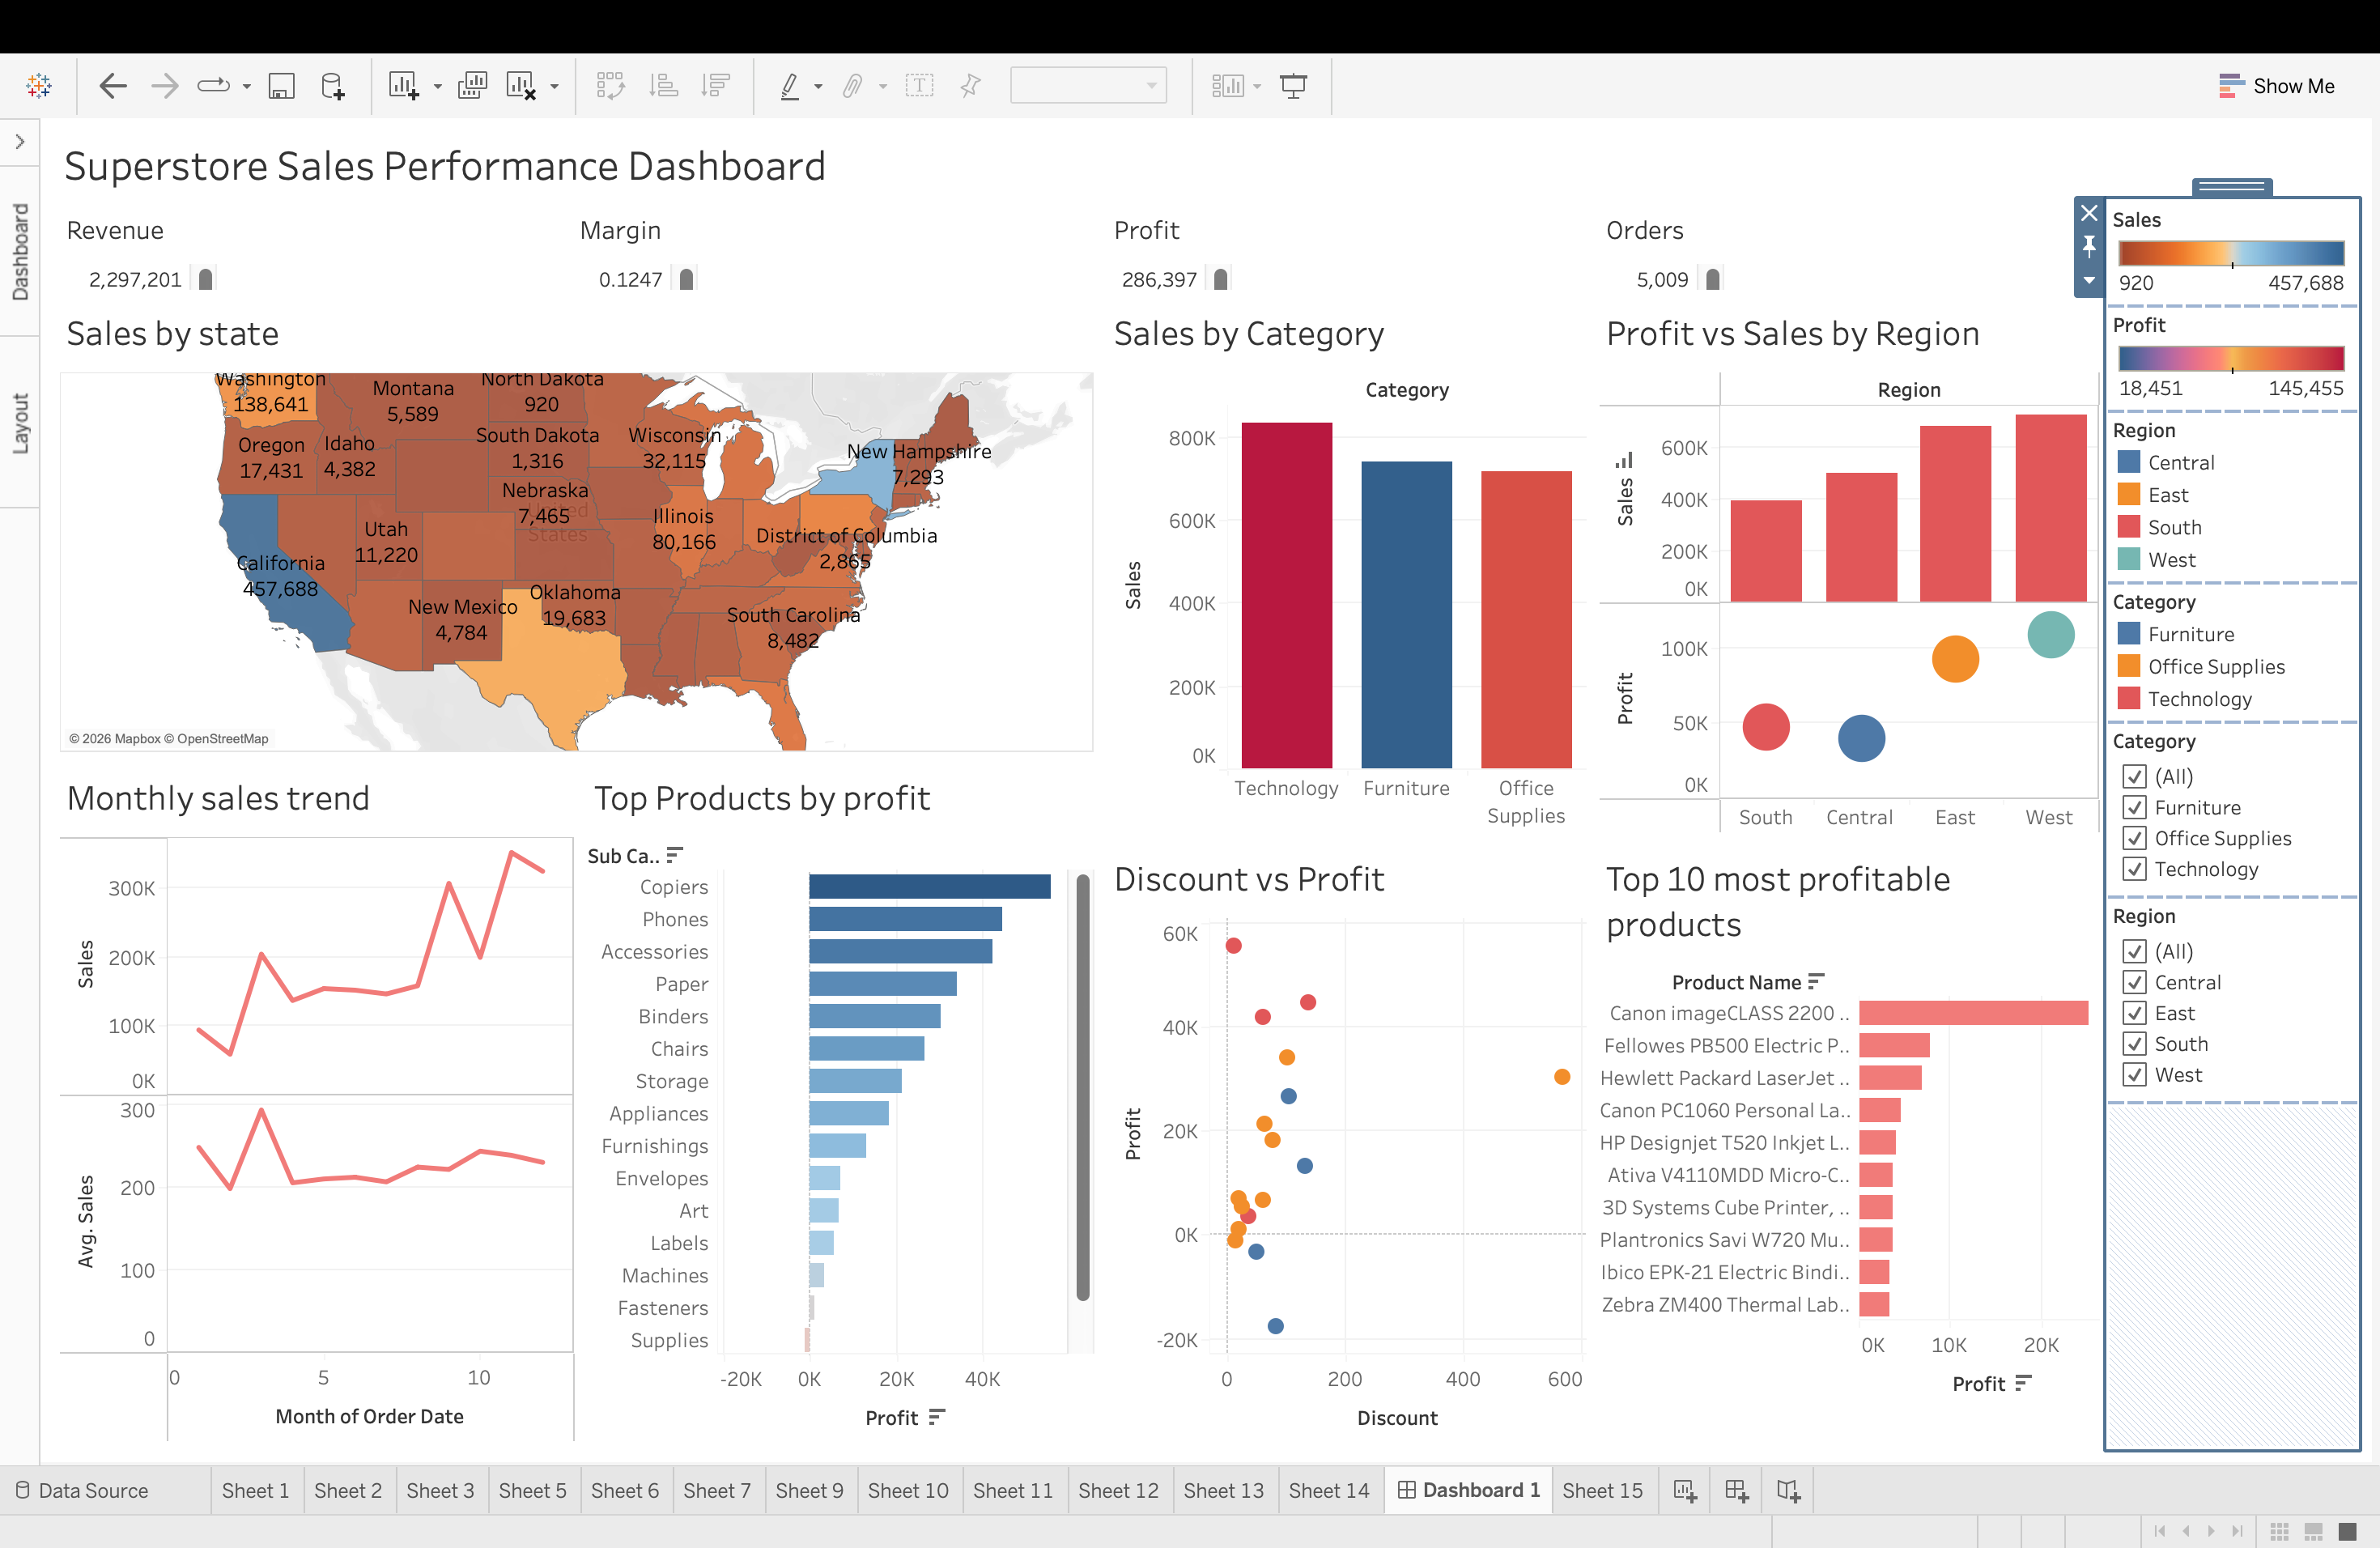

This screenshot's page, from the dashboard's own definition file:
{"tool":"tableau","page":{"name":"Dashboard 1","canvas":[1440,830],"ordinal":0},"visuals":[{"type":"title","box":[8,8,1424,42]},{"type":"worksheet","title":"Sheet 12","mark":"Text","box":[8,50,316.9,60.5]},{"type":"worksheet","title":"Sheet 15","mark":"Automatic","box":[324.9,50,329.8,60.5]},{"type":"worksheet","title":"Sheet 13","mark":"Text","box":[654.7,50,304.2,60.5]},{"type":"worksheet","title":"Sheet 14","mark":"Text","box":[958.9,50,317.1,60.5]},{"type":"legend","title":"Sheet 7","param":"[federated.0seep7z1s7p4qn14bod2g1qje3ka].[sum:sales:qk]","box":[1276,50,156,65]},{"type":"worksheet","title":"Sheet 7","mark":"Multipolygon","box":[8,110.5,646.7,286.1]},{"type":"worksheet","title":"Sheet 1","mark":"Automatic","rows":["sales"],"cols":["category"],"box":[654.7,110.5,304.2,336.1]},{"type":"worksheet","title":"Sheet 11","mark":"Automatic","rows":["sales","profit"],"cols":["region"],"box":[958.9,110.5,317.1,336.1]},{"type":"legend","title":"Sheet 1","param":"[federated.0seep7z1s7p4qn14bod2g1qje3ka].[sum:profit:qk]","box":[1276,115,156,65]},{"type":"legend","title":"Sheet 11","param":"[federated.0seep7z1s7p4qn14bod2g1qje3ka].[none:region:nk]","box":[1276,180,156,106]},{"type":"legend","title":"Sheet 6","param":"[federated.0seep7z1s7p4qn14bod2g1qje3ka].[none:category:nk]","box":[1276,286,156,86]},{"type":"filter","title":"Sheet 1","param":"[federated.0seep7z1s7p4qn14bod2g1qje3ka].[none:category:nk]","box":[1276,372,156,108]},{"type":"worksheet","title":"Sheet 3","mark":"Automatic","rows":["sales","sales"],"cols":["order_date"],"box":[8,396.6,326,425.4]},{"type":"worksheet","title":"Sheet 9","mark":"Automatic","rows":["sub_category"],"cols":["profit"],"box":[334,396.6,320.7,425.4]},{"type":"worksheet","title":"Sheet 6","mark":"Circle","rows":["profit"],"cols":["discount"],"box":[654.7,446.5,304.2,375.5]},{"type":"worksheet","title":"Sheet 5","mark":"Automatic","rows":["product_name"],"cols":["profit"],"box":[958.9,446.5,317.1,375.5]},{"type":"filter","title":"Sheet 11","param":"[federated.0seep7z1s7p4qn14bod2g1qje3ka].[none:region:nk]","box":[1276,480,156,127]}]}

Visuals, with their boxes on the page's 1440x830 design canvas (x1, y1, x2, y2). These are canvas units, not pixel positions in the 2380x1548 screenshot, which may show the page scaled, cropped or inside an application window:
title: (x1=8, y1=8, x2=1432, y2=50)
"Sheet 12" worksheet (Text marks): (x1=8, y1=50, x2=325, y2=110)
"Sheet 15" worksheet: (x1=325, y1=50, x2=655, y2=110)
"Sheet 13" worksheet (Text marks): (x1=655, y1=50, x2=959, y2=110)
"Sheet 14" worksheet (Text marks): (x1=959, y1=50, x2=1276, y2=110)
"Sheet 7" legend: (x1=1276, y1=50, x2=1432, y2=115)
"Sheet 7" worksheet (Multipolygon marks): (x1=8, y1=110, x2=655, y2=397)
"Sheet 1" worksheet: (x1=655, y1=110, x2=959, y2=447)
"Sheet 11" worksheet: (x1=959, y1=110, x2=1276, y2=447)
"Sheet 1" legend: (x1=1276, y1=115, x2=1432, y2=180)
"Sheet 11" legend: (x1=1276, y1=180, x2=1432, y2=286)
"Sheet 6" legend: (x1=1276, y1=286, x2=1432, y2=372)
"Sheet 1" filter: (x1=1276, y1=372, x2=1432, y2=480)
"Sheet 3" worksheet: (x1=8, y1=397, x2=334, y2=822)
"Sheet 9" worksheet: (x1=334, y1=397, x2=655, y2=822)
"Sheet 6" worksheet (Circle marks): (x1=655, y1=446, x2=959, y2=822)
"Sheet 5" worksheet: (x1=959, y1=446, x2=1276, y2=822)
"Sheet 11" filter: (x1=1276, y1=480, x2=1432, y2=607)
